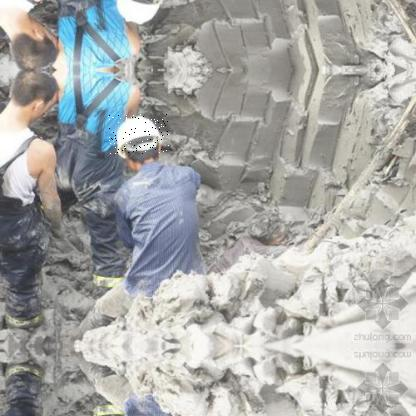safetyhelmet: (108, 114, 170, 155)
